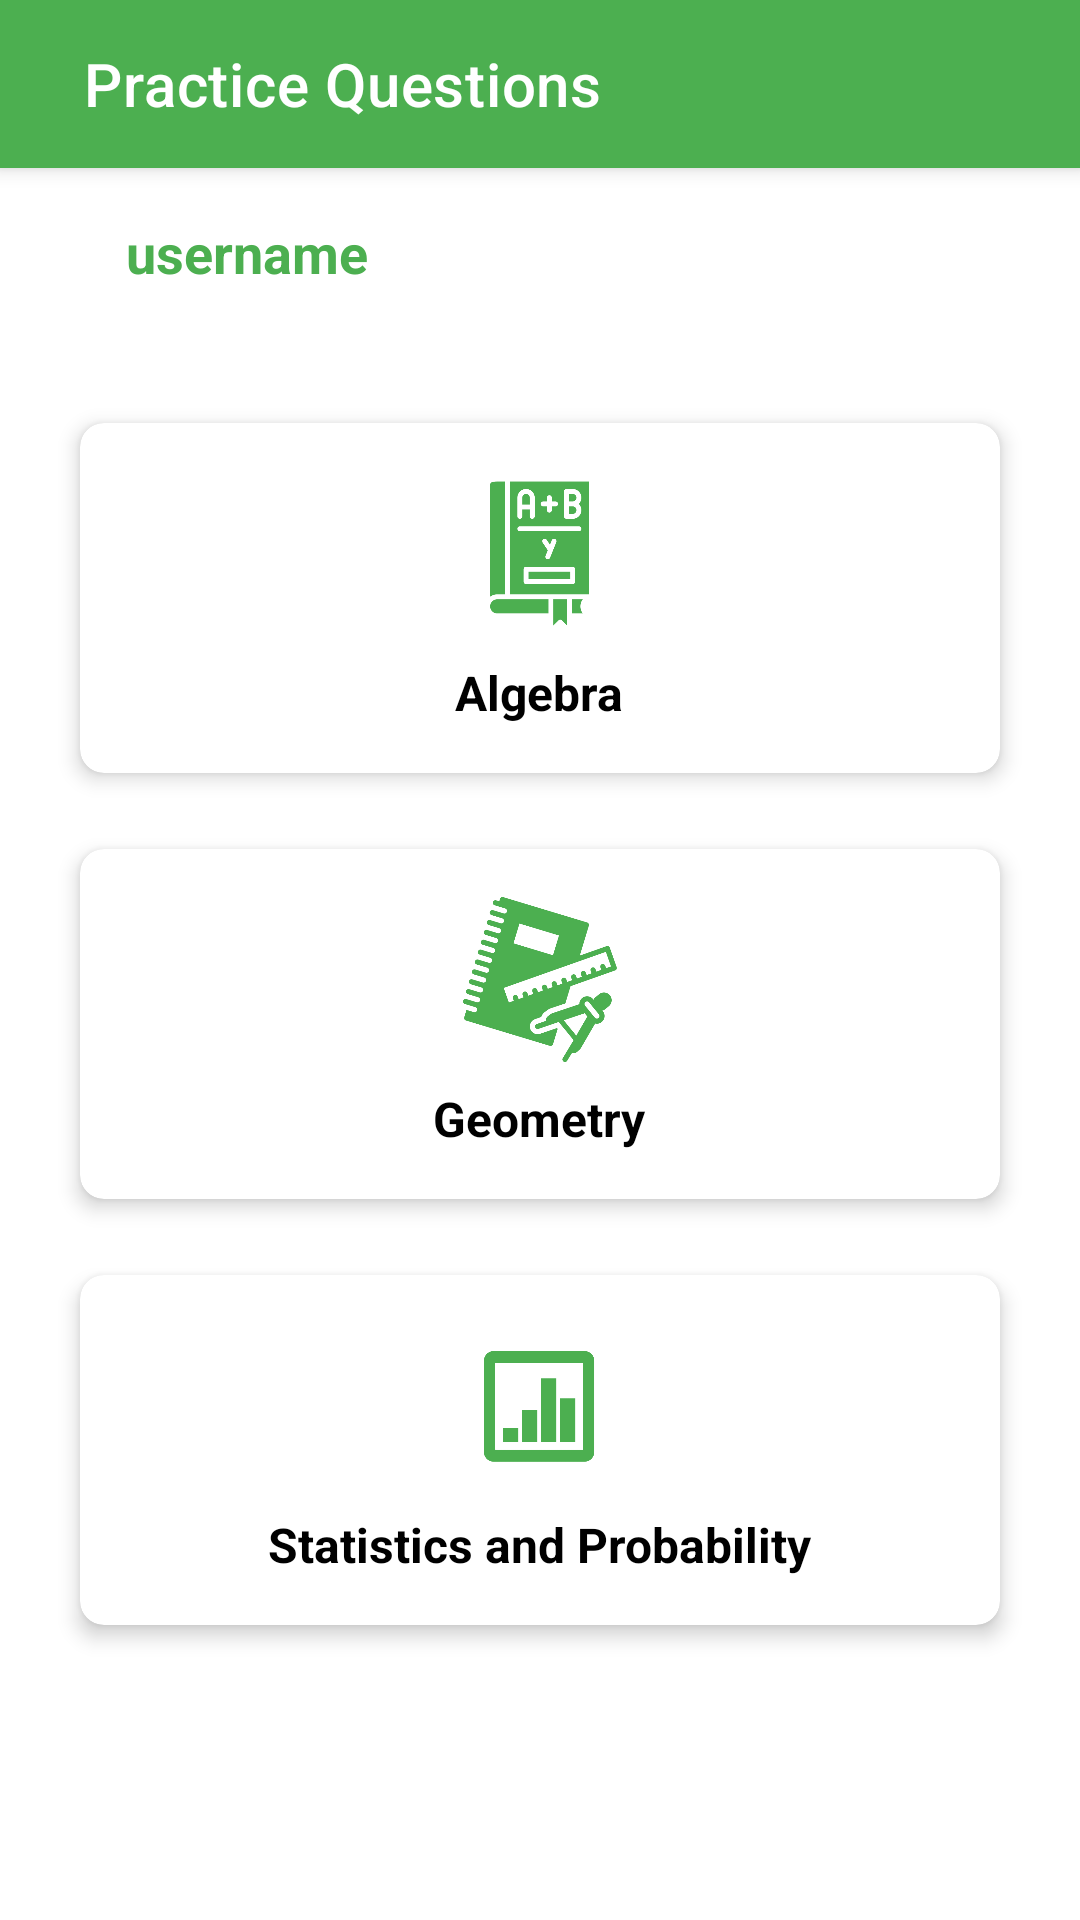

Screen size 1080px x 1920px. Icon name, then its box in pixels as Rect(x1, y1, x2, y2):
statistcs: Rect(484, 1351, 594, 1462)
